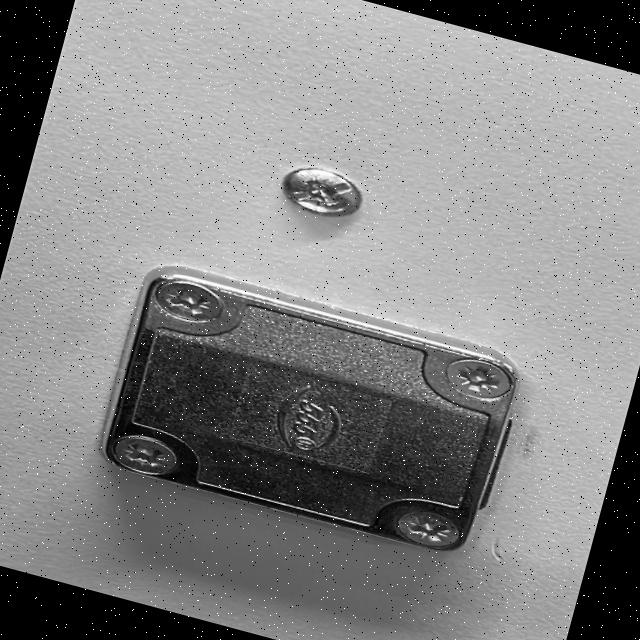Pozidriv: (416, 342, 526, 414), (382, 494, 484, 566), (274, 162, 374, 235), (94, 419, 194, 488), (153, 276, 234, 337)
